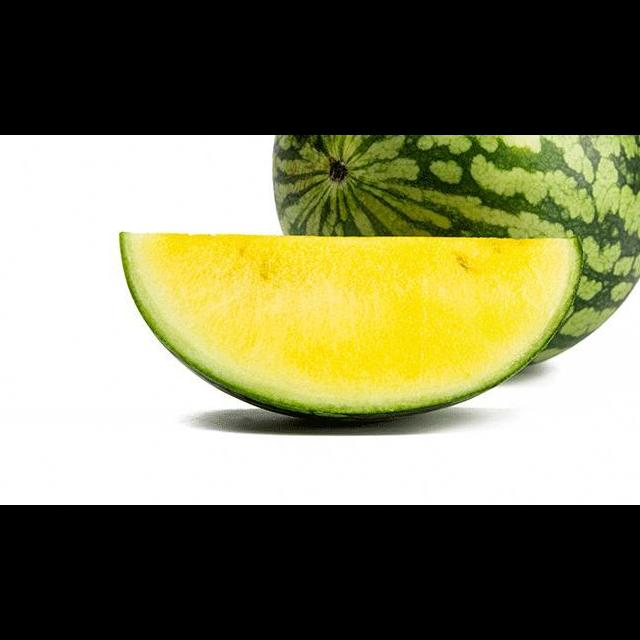watermelon: (116, 233, 581, 422), (271, 135, 640, 371)
